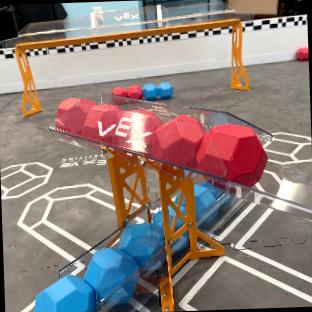Goal: (2, 0, 251, 117)
V5_BLUE: (85, 247, 136, 304), (120, 211, 165, 270), (36, 275, 95, 312), (195, 183, 214, 220), (143, 82, 173, 99)
V5_RED: (195, 123, 266, 186), (150, 115, 204, 168), (57, 97, 95, 133), (127, 85, 142, 98), (297, 47, 308, 60), (112, 87, 126, 97)
